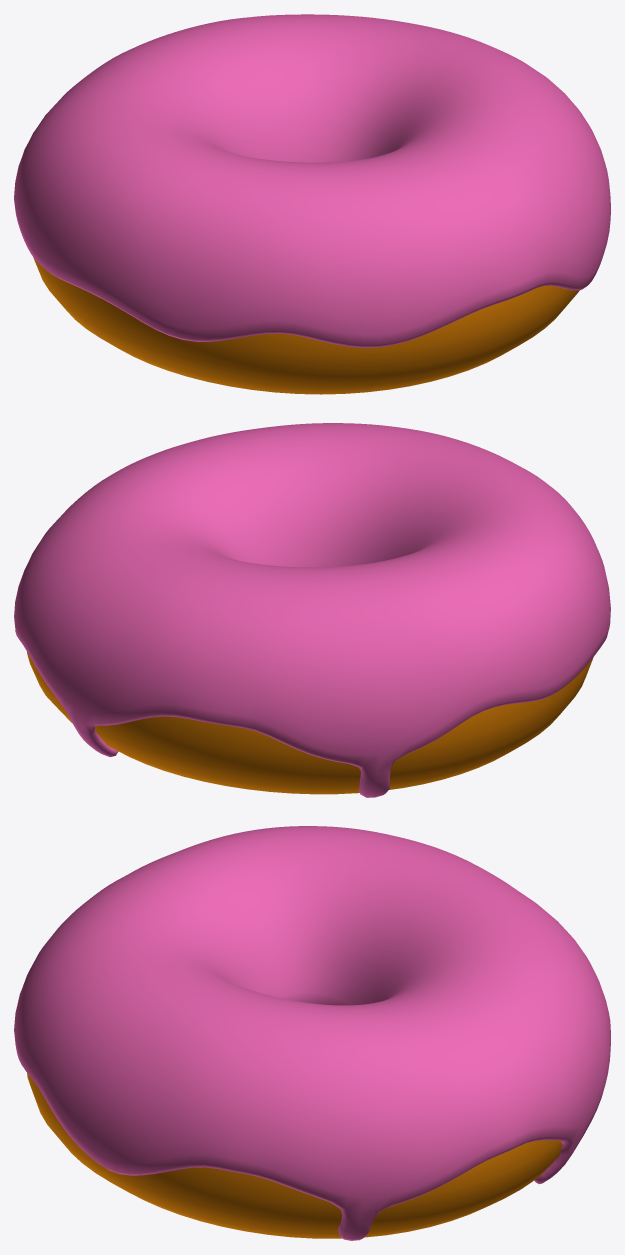
File: DougnutV3.glb
3 views of the same model, one above another, from view 1: azimuth 30°, elevation 25°; view 2: azimuth 150°, elevation 25°; view 3: azimuth 270°, elevation 25° (orthographic). The views are drawn at different scales.
Parts seen in each view (by area): view 1: Icing, Donut; view 2: Icing, Donut; view 3: Icing, Donut.
Part boxes in pixels (x1,y1,x2,y2): Icing: (14,14,610,347); Donut: (33,257,579,394); Icing: (14,423,610,797); Donut: (27,652,593,794); Icing: (14,826,610,1240); Donut: (27,1073,562,1238).
Bounding box in the file's own units: 1.31 × 0.5321 × 1.28.
